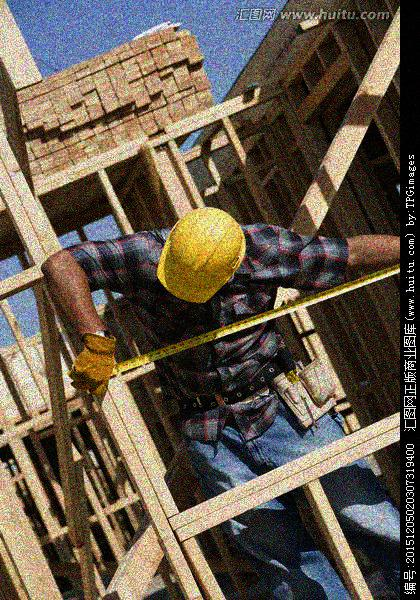helmet: (153, 202, 248, 312)
